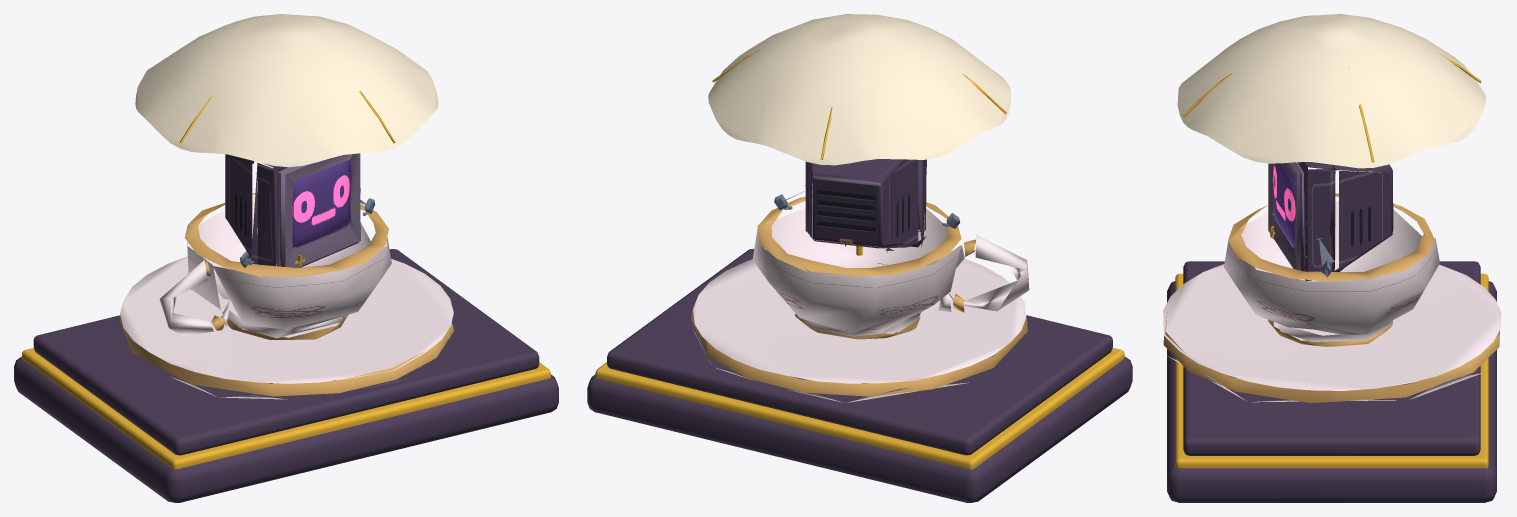
File: kart.umbrella.lace.lod1.glb
3 renders of one model, left to right at view 1: azimuth 30°, elevation 25°; view 2: azimuth 150°, elevation 25°; view 3: azimuth 270°, elevation 25°, orthographic.
Parts seen in each view (by area): view 1: emi_teacup_mesh, lace_canopy, stand_display_top, stand_display_base, stand_brass_band, stand_identity_face; view 2: emi_teacup_mesh, lace_canopy, stand_display_top, stand_display_base, stand_brass_band; view 3: emi_teacup_mesh, lace_canopy, stand_display_top, stand_display_base, stand_brass_band, stand_identity_face.
Part boxes in pixels (x1=…): emi_teacup_mesh: x1=119, y1=153, x2=454, y2=399; lace_canopy: x1=135, y1=14, x2=438, y2=167; stand_display_top: x1=33, y1=249, x2=539, y2=455; stand_display_base: x1=14, y1=356, x2=558, y2=502; stand_brass_band: x1=22, y1=348, x2=550, y2=469; stand_identity_face: x1=292, y1=159, x2=352, y2=247; emi_teacup_mesh: x1=691, y1=159, x2=1029, y2=402; lace_canopy: x1=708, y1=14, x2=1011, y2=165; stand_display_top: x1=607, y1=248, x2=1112, y2=455; stand_display_base: x1=587, y1=357, x2=1132, y2=502; stand_brass_band: x1=595, y1=348, x2=1124, y2=469; emi_teacup_mesh: x1=1163, y1=162, x2=1501, y2=403; lace_canopy: x1=1177, y1=14, x2=1486, y2=168; stand_display_top: x1=1183, y1=261, x2=1480, y2=455; stand_display_base: x1=1167, y1=281, x2=1496, y2=502; stand_brass_band: x1=1175, y1=273, x2=1488, y2=468; stand_identity_face: x1=1273, y1=163, x2=1302, y2=247.
Size of the model in its own units: 0.64 by 0.5815 by 0.4733.
4 materials, 2 textured.
